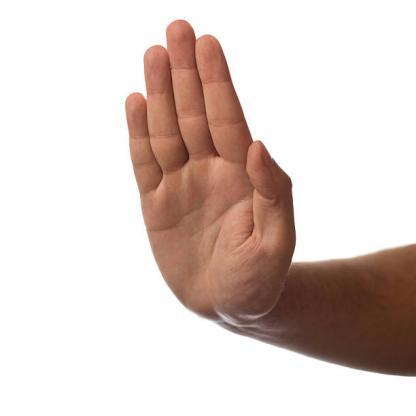stop: (119, 17, 300, 320)
